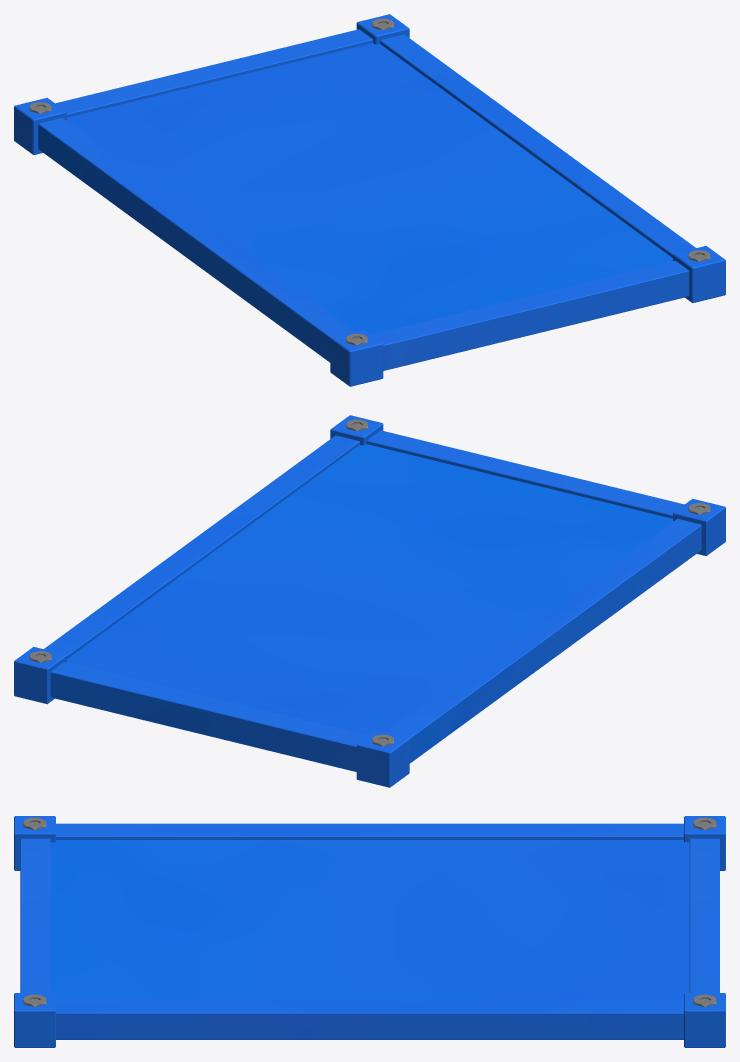
File: DoubleFramedPlatformBlue.fbx
3 renders of one model, top to bottom at view 1: azimuth 30°, elevation 25°; view 2: azimuth 150°, elevation 25°; view 3: azimuth 270°, elevation 25°, orthographic. The views are drawn at different scales.
Visible parts, largest first — view 1: Cube, Cube.001; view 2: Cube, Cube.001; view 3: Cube, Cube.001.
Part boxes in pixels (box(x1,y1,x2,y2)): Cube: box(14, 14, 725, 386); Cube.001: box(29, 18, 710, 345); Cube: box(14, 415, 725, 787); Cube.001: box(29, 419, 710, 746); Cube: box(14, 816, 725, 1047); Cube.001: box(23, 817, 716, 1006).
Size of the model in its own units: 11 by 1.05 by 17.
